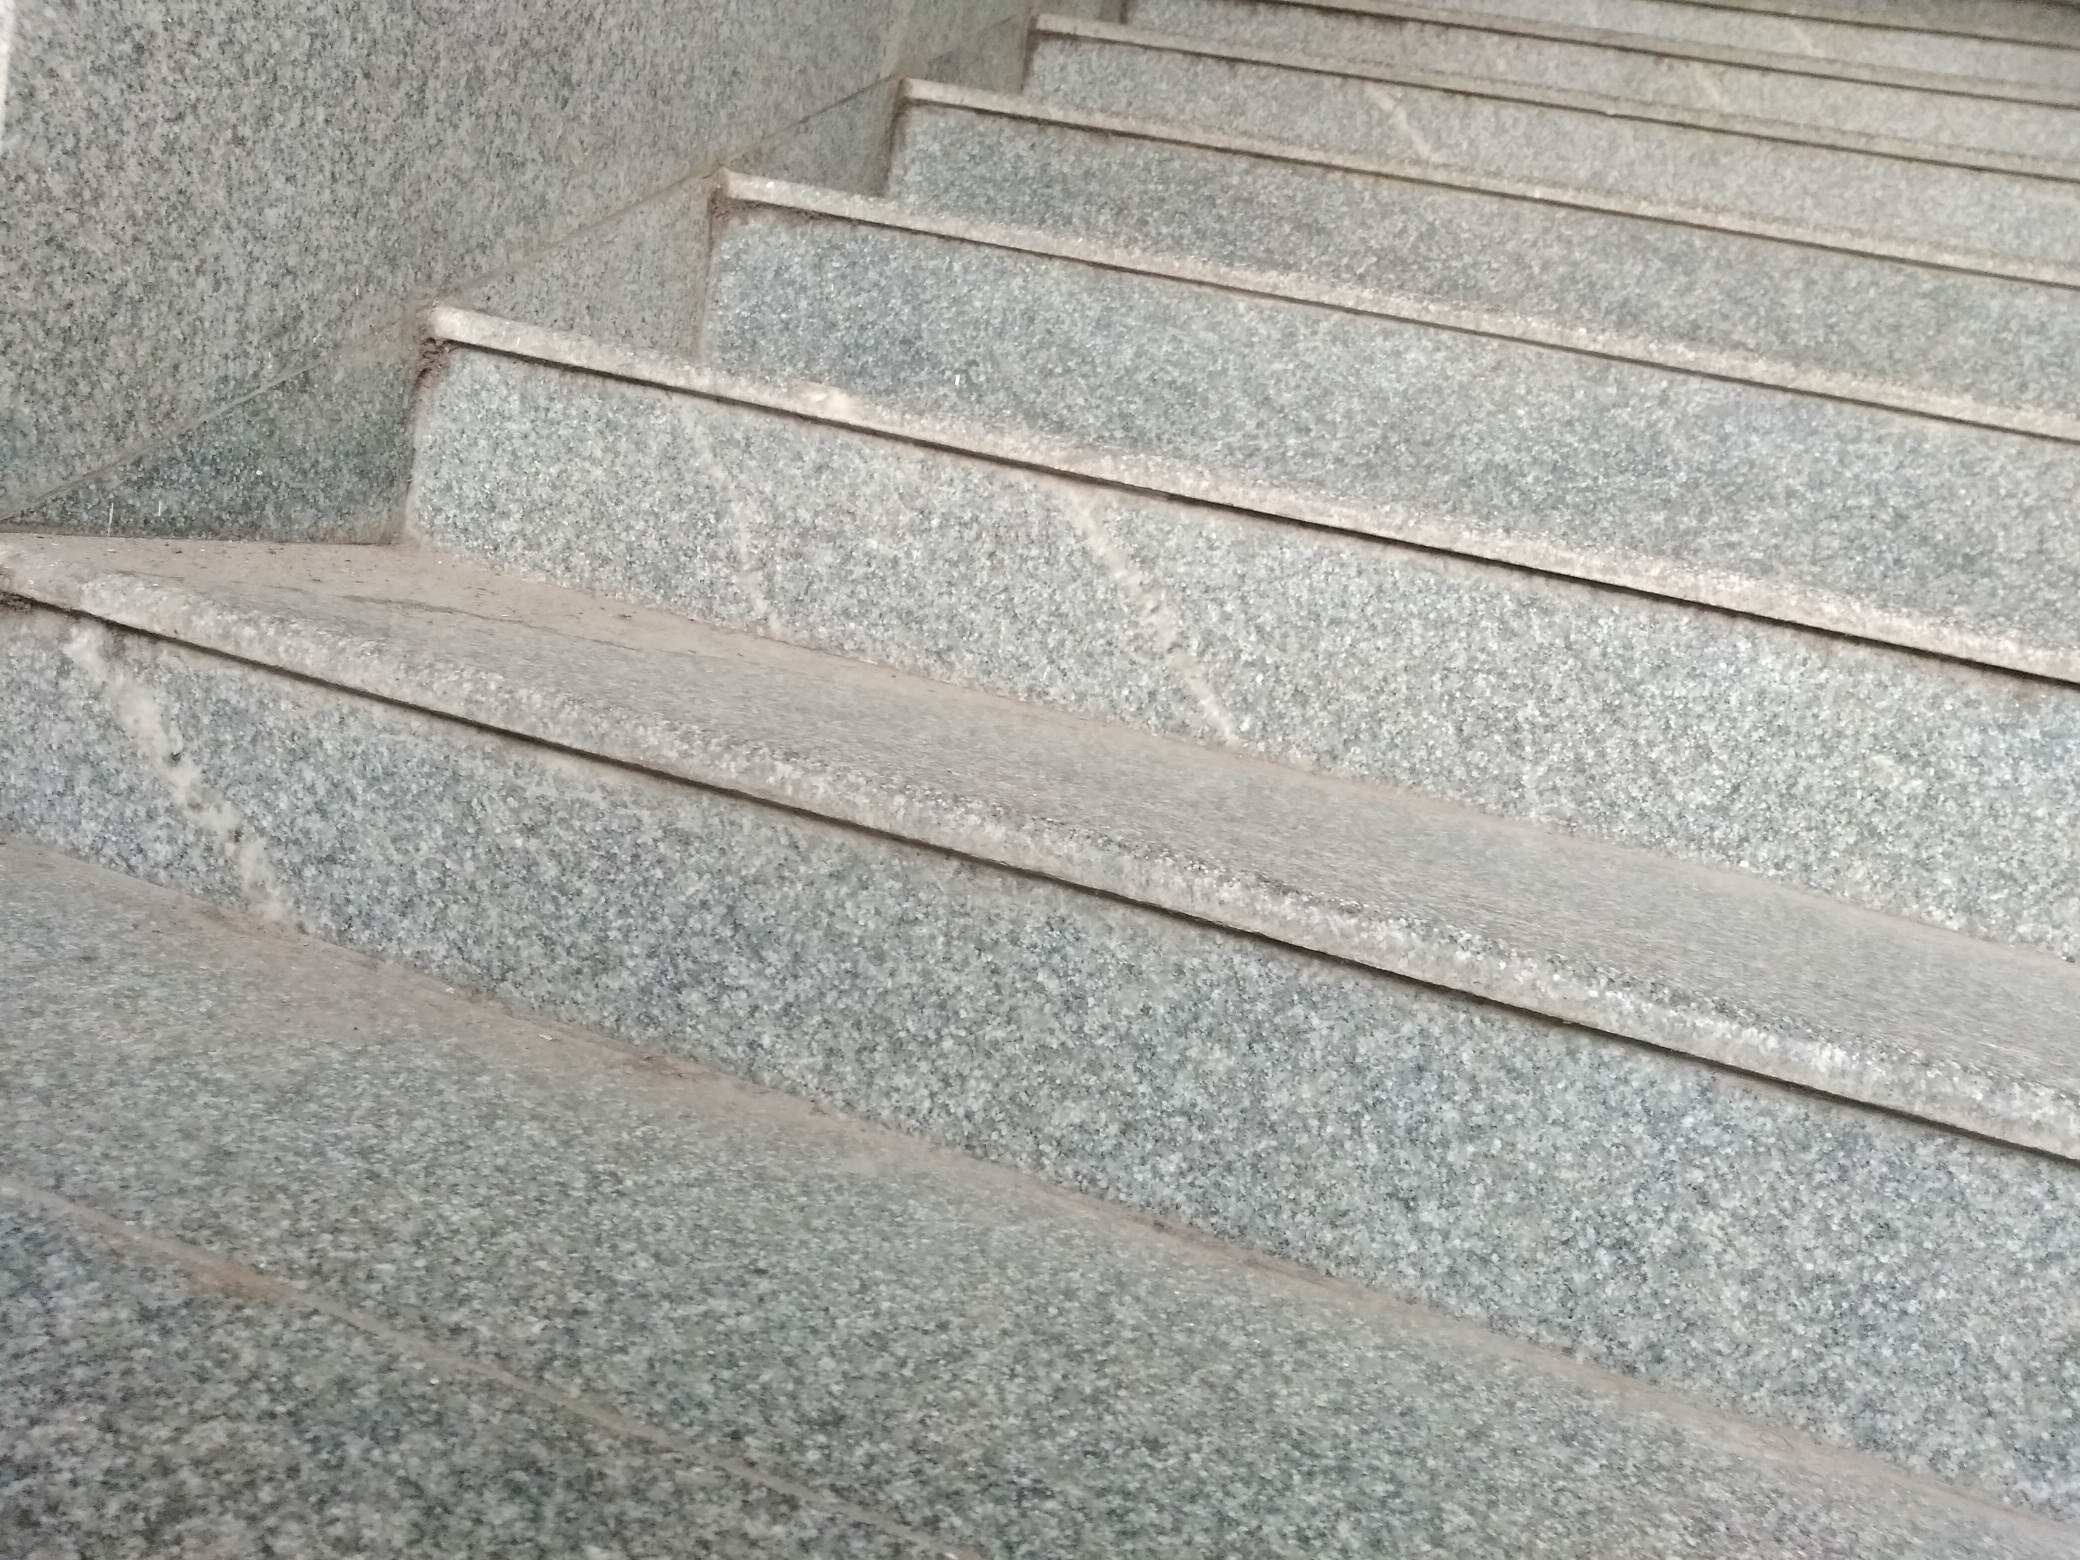stairs_up: (66, 38, 2060, 1100)
